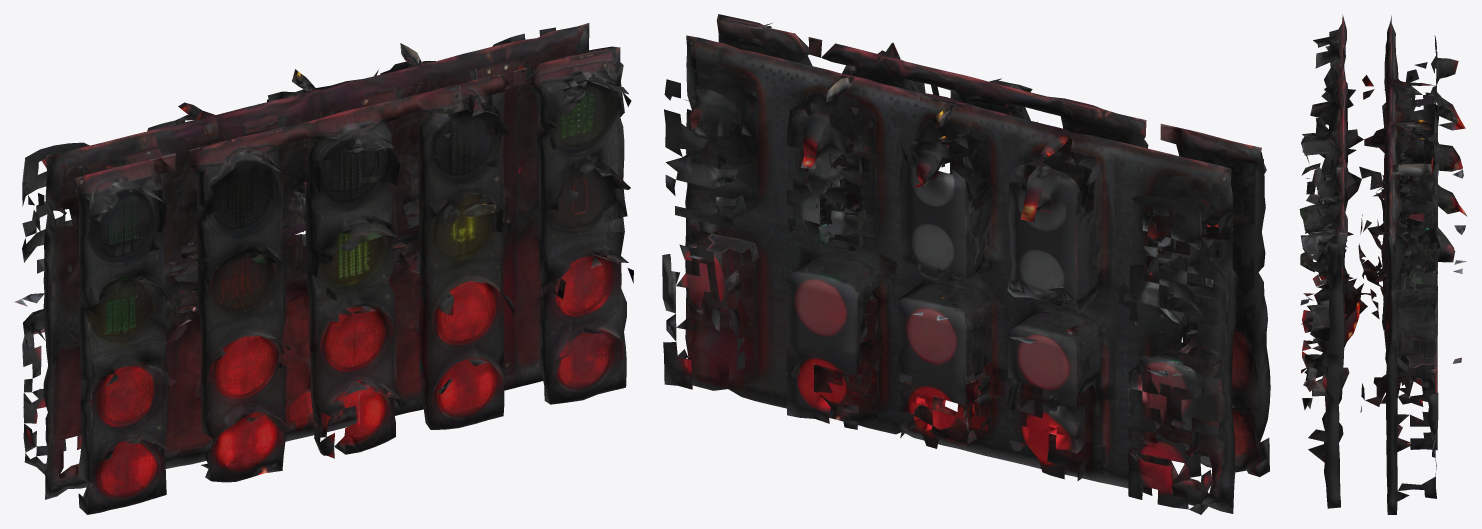
Rendered from 8810b217-73d3-47d6-983d-ddfd9bfeb49a.glb.
The picture shows the model from 3 angles, left to right: view 1: azimuth 30°, elevation 25°; view 2: azimuth 150°, elevation 25°; view 3: azimuth 270°, elevation 25°; orthographic projection. The views are drawn at different scales.
Bounding box in the file's own units: 2.01 × 1.23 × 0.6514.
Materials: 1 (1 with a texture image).
